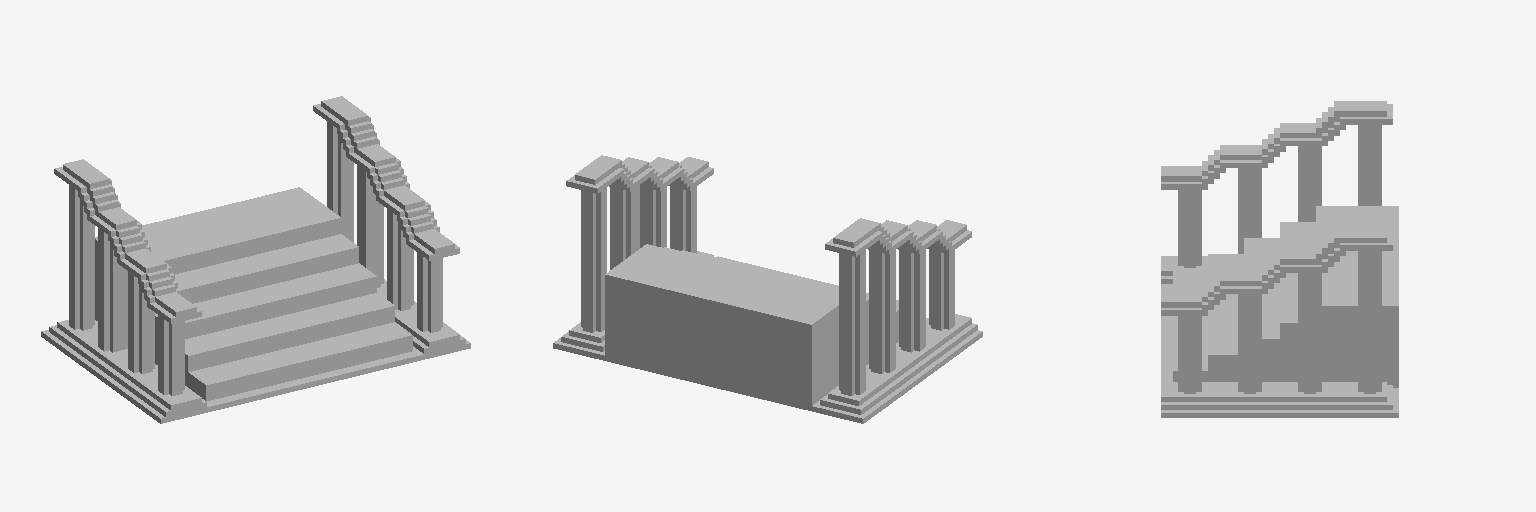
File: escalera.obj
The picture shows the model from 3 angles: view 1: azimuth 30°, elevation 25°; view 2: azimuth 150°, elevation 25°; view 3: azimuth 270°, elevation 25°; orthographic projection.
Parts seen in each view (by area): view 1: object 1; view 2: object 1; view 3: object 1.
Part boxes in pixels (bbox=[...]): object 1: bbox=[41, 96, 470, 423]; object 1: bbox=[553, 155, 982, 423]; object 1: bbox=[1161, 101, 1398, 417].
Size of the model in its own units: 6 by 3.2 by 4.